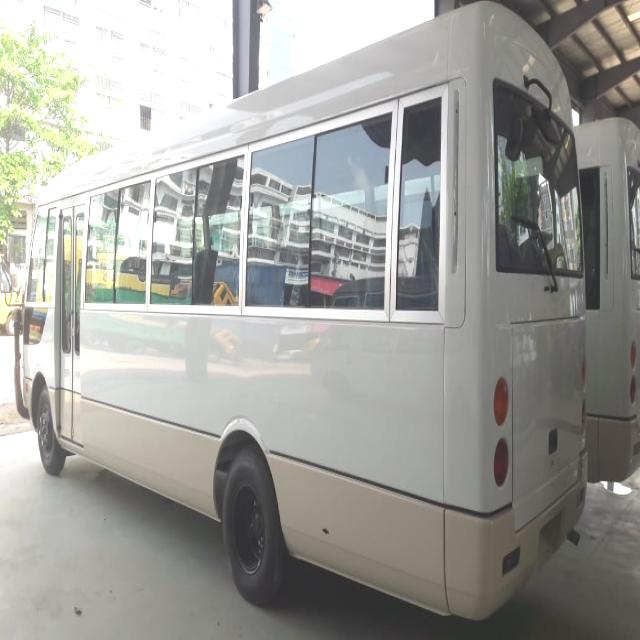bus: (15, 19, 594, 640)
